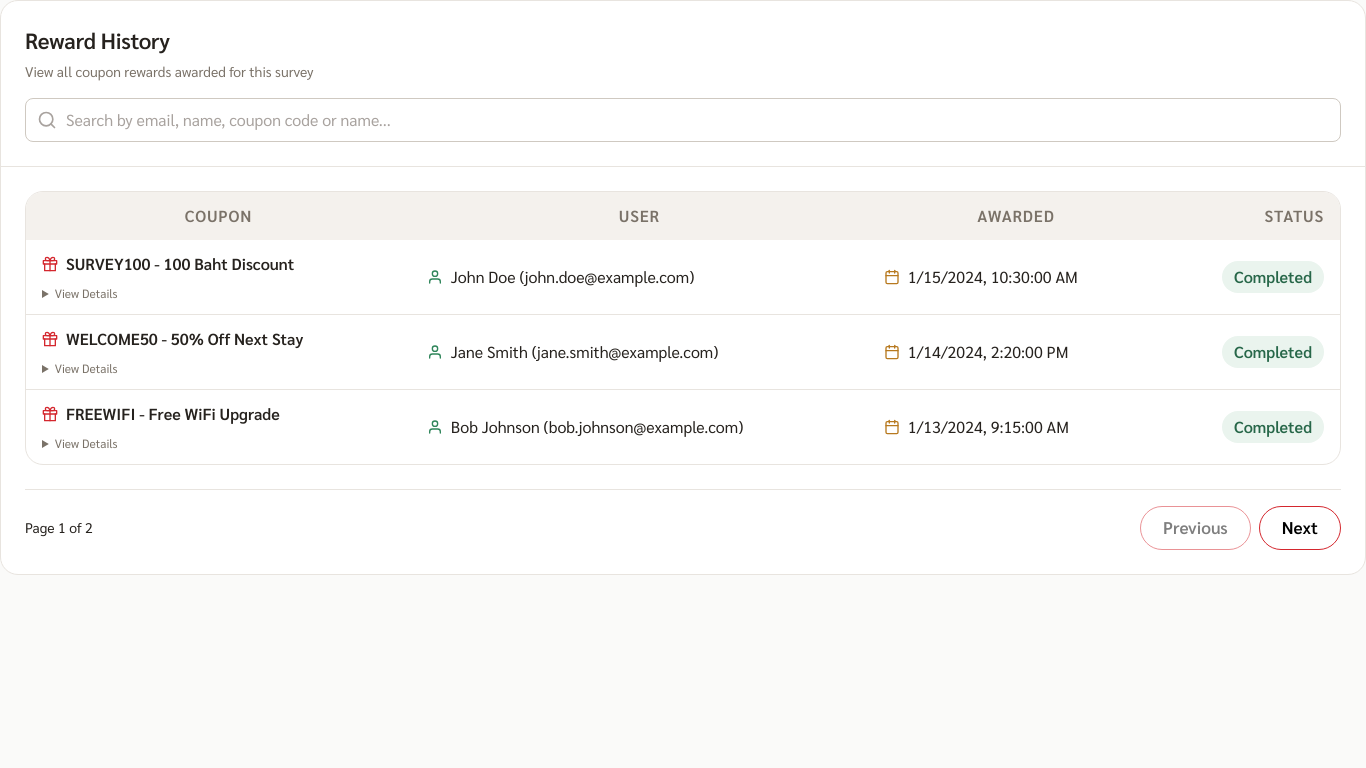
SurveyRewardHistory › Empty Search Results › should show pagination even when search returns no results
The image size is (1366, 768).
Expected: the text "Page 1 of 2" is shown, [25,517,93,538]
In the field with placeholder "Search by email, name, coupon code or name...": (683, 120) [25,98,1341,142], type "nonexistent"
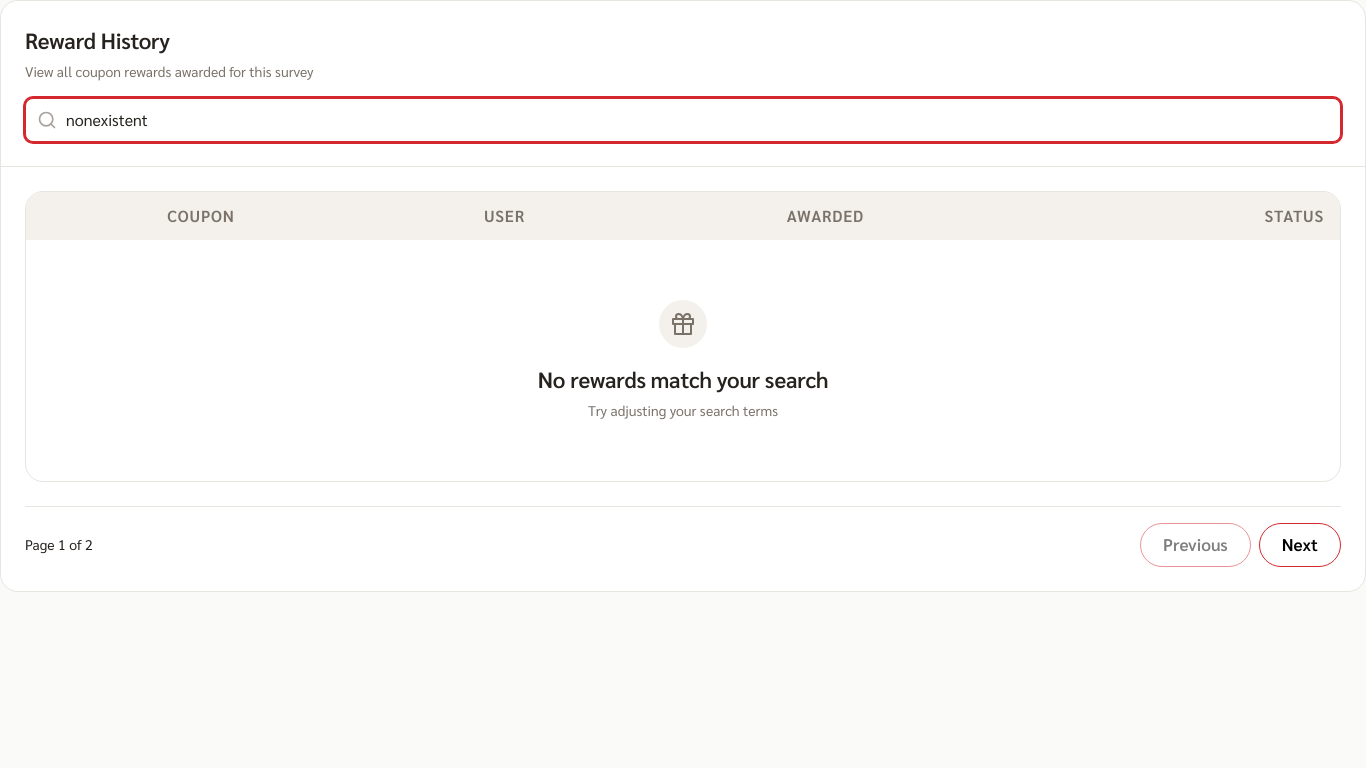
Expected: the text "Page 1 of 2" is shown, [25,534,93,555]
Expected: the heading "No rewards match your search" is shown, [538,364,828,396]
